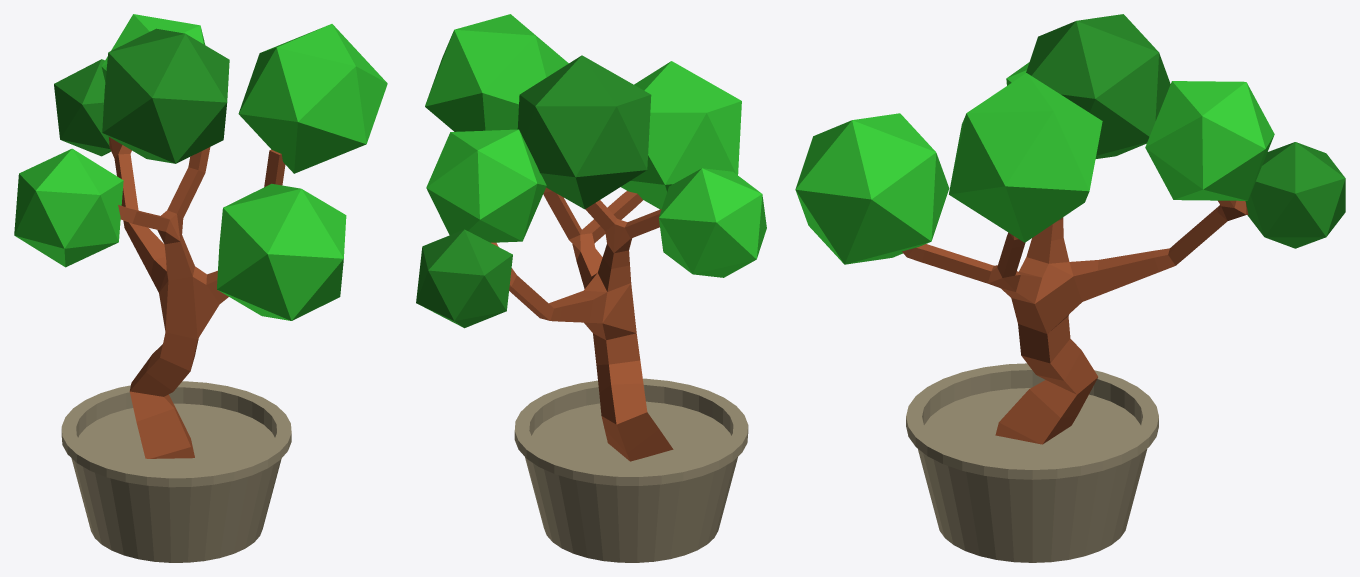
3 views of the same model, side by side, from view 1: azimuth 30°, elevation 25°; view 2: azimuth 150°, elevation 25°; view 3: azimuth 270°, elevation 25° (orthographic). The views are drawn at different scales.
Visible parts, largest first — view 1: Cylinder, Cube, Icosphere.003, Icosphere.002, Icosphere.004, Icosphere.005, Icosphere, Icosphere.001; view 2: Cylinder, Cube, Icosphere.004, Icosphere.003, Icosphere.001, Icosphere.002, Icosphere.005, Icosphere; view 3: Cylinder, Cube, Icosphere.003, Icosphere.002, Icosphere.004, Icosphere.001, Icosphere.
Part boxes in pixels (<box>): Cylinder: <box>61,381,291,562</box>; Cube: <box>109,137,285,458</box>; Icosphere.003: <box>238,24,387,173</box>; Icosphere.002: <box>217,183,346,320</box>; Icosphere.004: <box>102,28,229,163</box>; Icosphere.005: <box>14,148,123,267</box>; Icosphere: <box>54,59,111,156</box>; Icosphere.001: <box>101,14,205,81</box>; Cylinder: <box>514,378,748,562</box>; Cube: <box>491,187,673,461</box>; Icosphere.004: <box>517,55,651,209</box>; Icosphere.003: <box>425,14,568,131</box>; Icosphere.001: <box>426,129,546,242</box>; Icosphere.002: <box>621,61,741,209</box>; Icosphere.005: <box>659,168,766,277</box>; Icosphere: <box>416,229,512,328</box>; Cylinder: <box>906,363,1158,562</box>; Cube: <box>902,200,1248,444</box>; Icosphere.003: <box>949,73,1102,242</box>; Icosphere.002: <box>795,113,949,264</box>; Icosphere.004: <box>1026,14,1170,158</box>; Icosphere.001: <box>1145,81,1274,200</box>; Icosphere: <box>1245,142,1345,248</box>.
Size of the model in its own units: 7.02 by 9.25 by 8.91.
